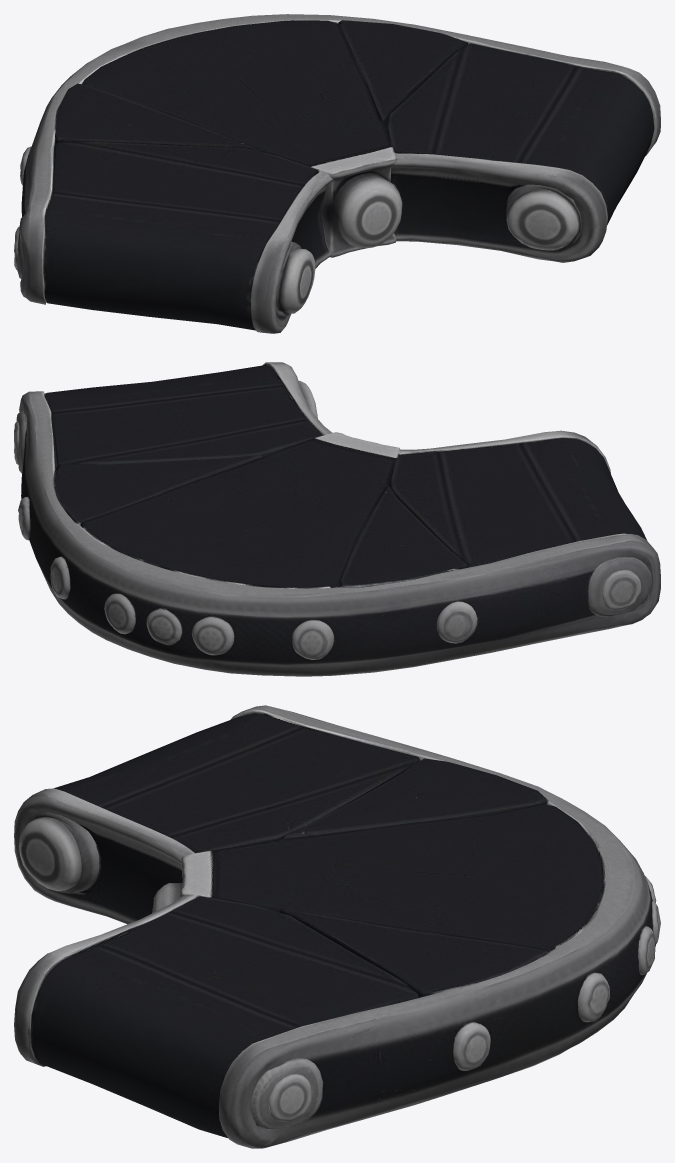
The model's file is s2_r5c3_curved_conveyor.glb.
3 renders of one model, top to bottom at view 1: azimuth 30°, elevation 25°; view 2: azimuth 150°, elevation 25°; view 3: azimuth 270°, elevation 25°, orthographic. The views are drawn at different scales.
Size of the model in its own units: 1 by 0.1385 by 0.7587.
Materials: 1 (1 with a texture image).
